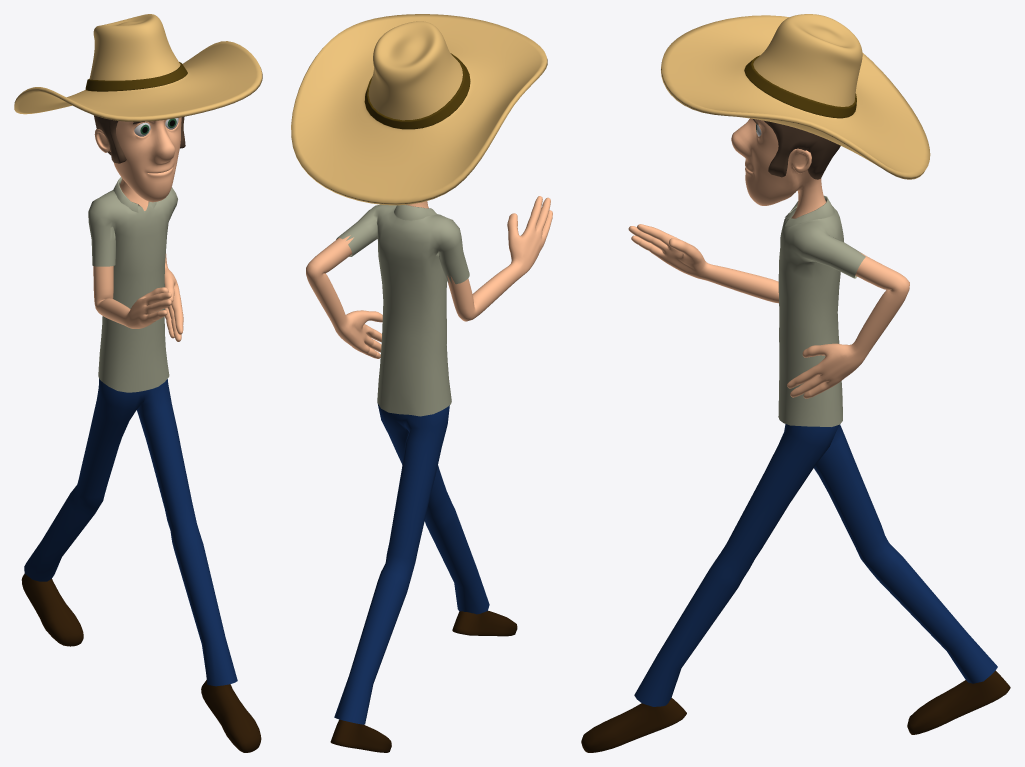
The model's file is GuyRun7.obj.
The picture shows the model from 3 angles, left to right: view 1: azimuth 30°, elevation 25°; view 2: azimuth 150°, elevation 25°; view 3: azimuth 270°, elevation 25°; orthographic projection. The views are drawn at different scales.
Bounding box in the file's own units: 2.18 × 7.18 × 3.87.
